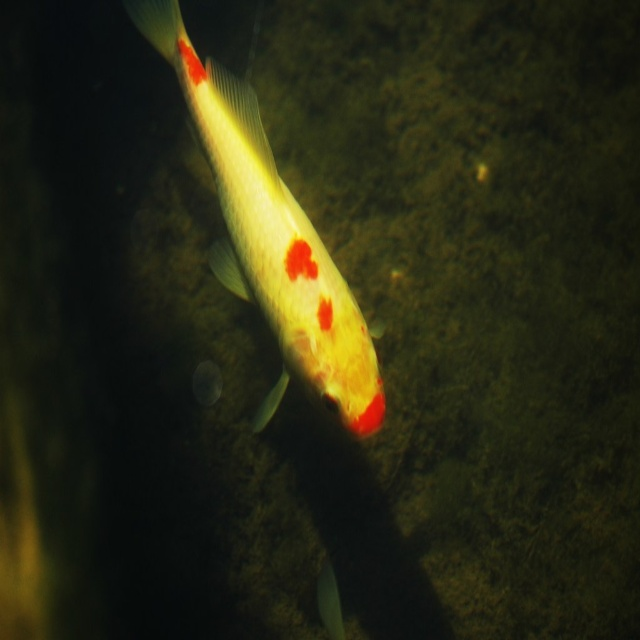Fish: (123, 0, 388, 446)
